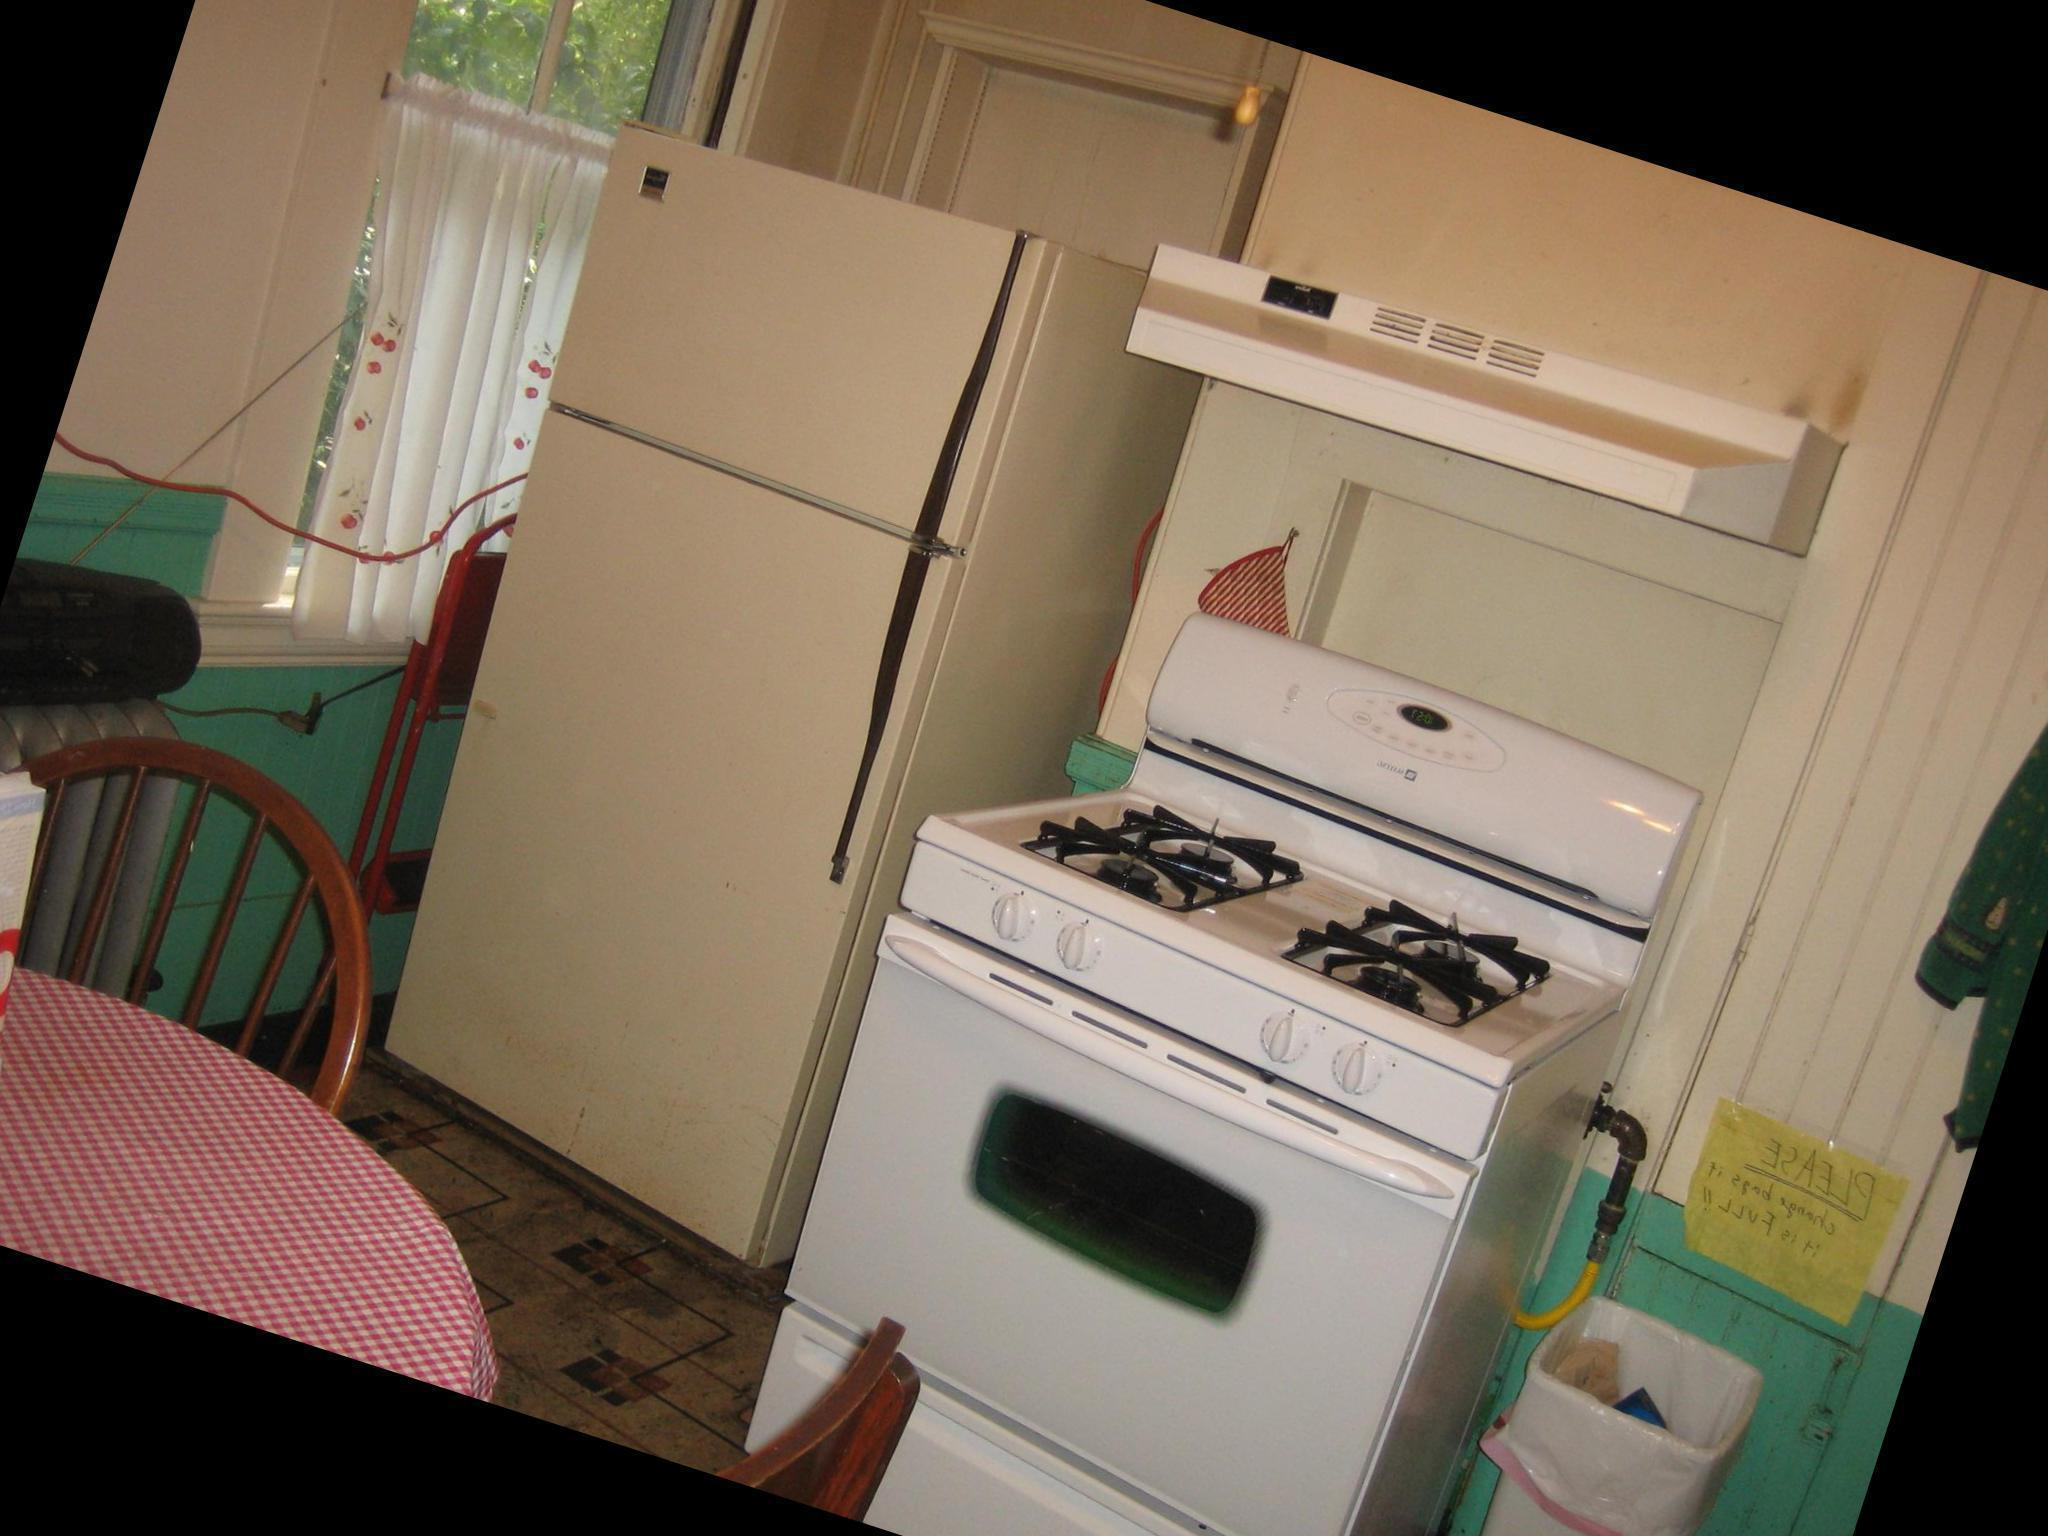Bote de Basura: (1421, 1276, 1759, 1536)
Electrodomestico: (360, 106, 1143, 1234), (739, 616, 1658, 1536)
